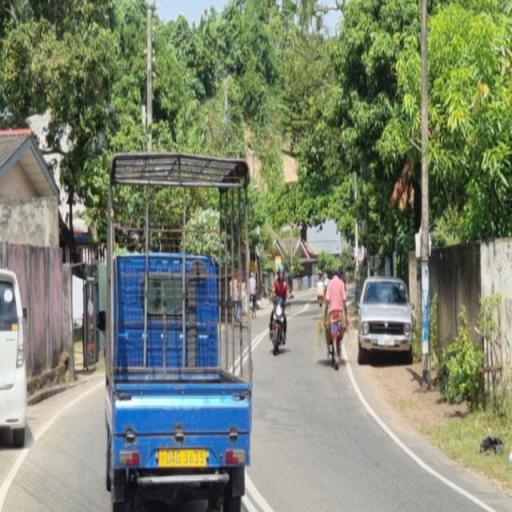double_white_line: (244, 463, 274, 511)
